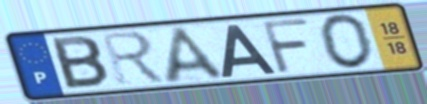A: (162, 24, 231, 85), (219, 22, 279, 79)
B: (48, 34, 111, 92)
F: (258, 17, 313, 75)
O: (317, 12, 376, 71)
R: (97, 29, 171, 87)
